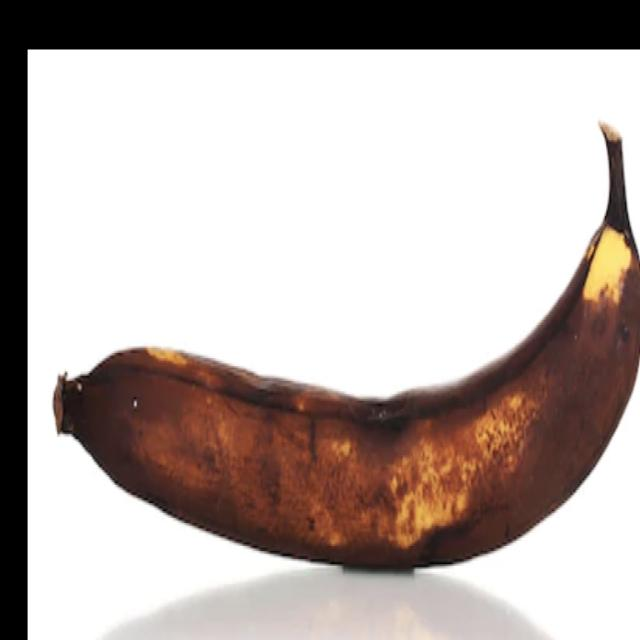Rotten: (24, 110, 640, 589)
